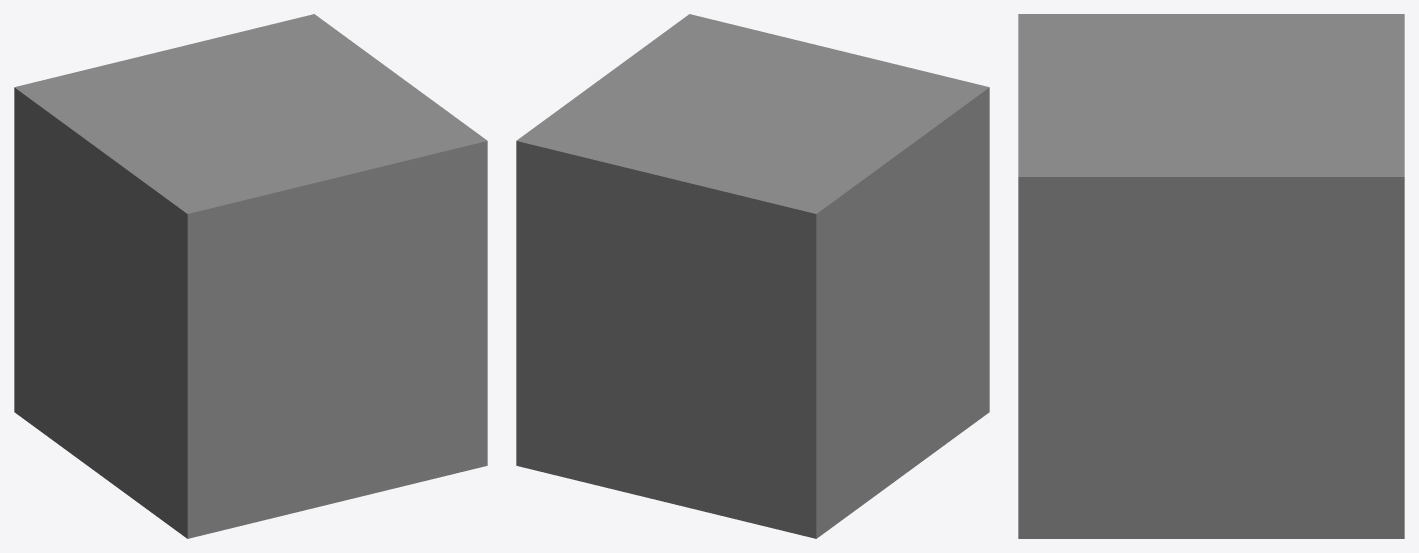
Rendered from spawn_neutral.glb.
The picture shows the model from 3 angles, left to right: view 1: azimuth 30°, elevation 25°; view 2: azimuth 150°, elevation 25°; view 3: azimuth 270°, elevation 25°; orthographic projection. The views are drawn at different scales.
Parts seen in each view (by area): view 1: SpawnNeutral; view 2: SpawnNeutral; view 3: SpawnNeutral.
Boxes of the visible parts, x1,y1,x2,y2 form: SpawnNeutral: (14, 14, 487, 538); SpawnNeutral: (516, 14, 989, 538); SpawnNeutral: (1018, 14, 1404, 538).
Bounding box in the file's own units: 0.9669 × 1 × 0.9669.
Materials: 1 (1 with a texture image).
